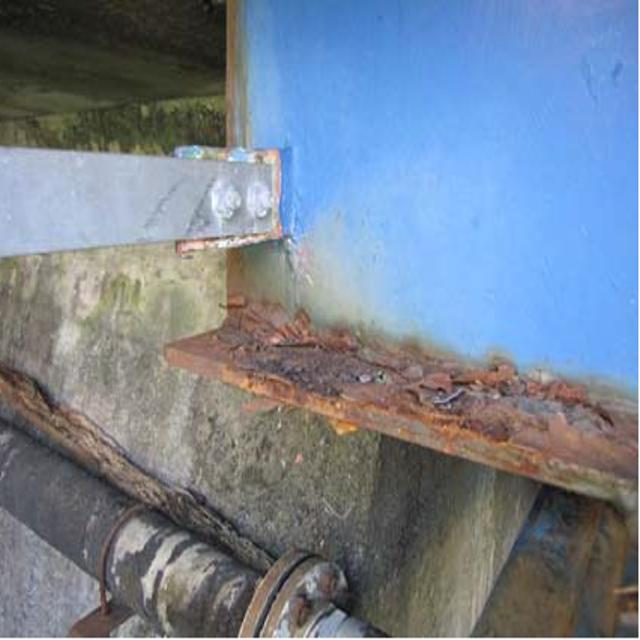corrosion: (167, 247, 626, 516)
